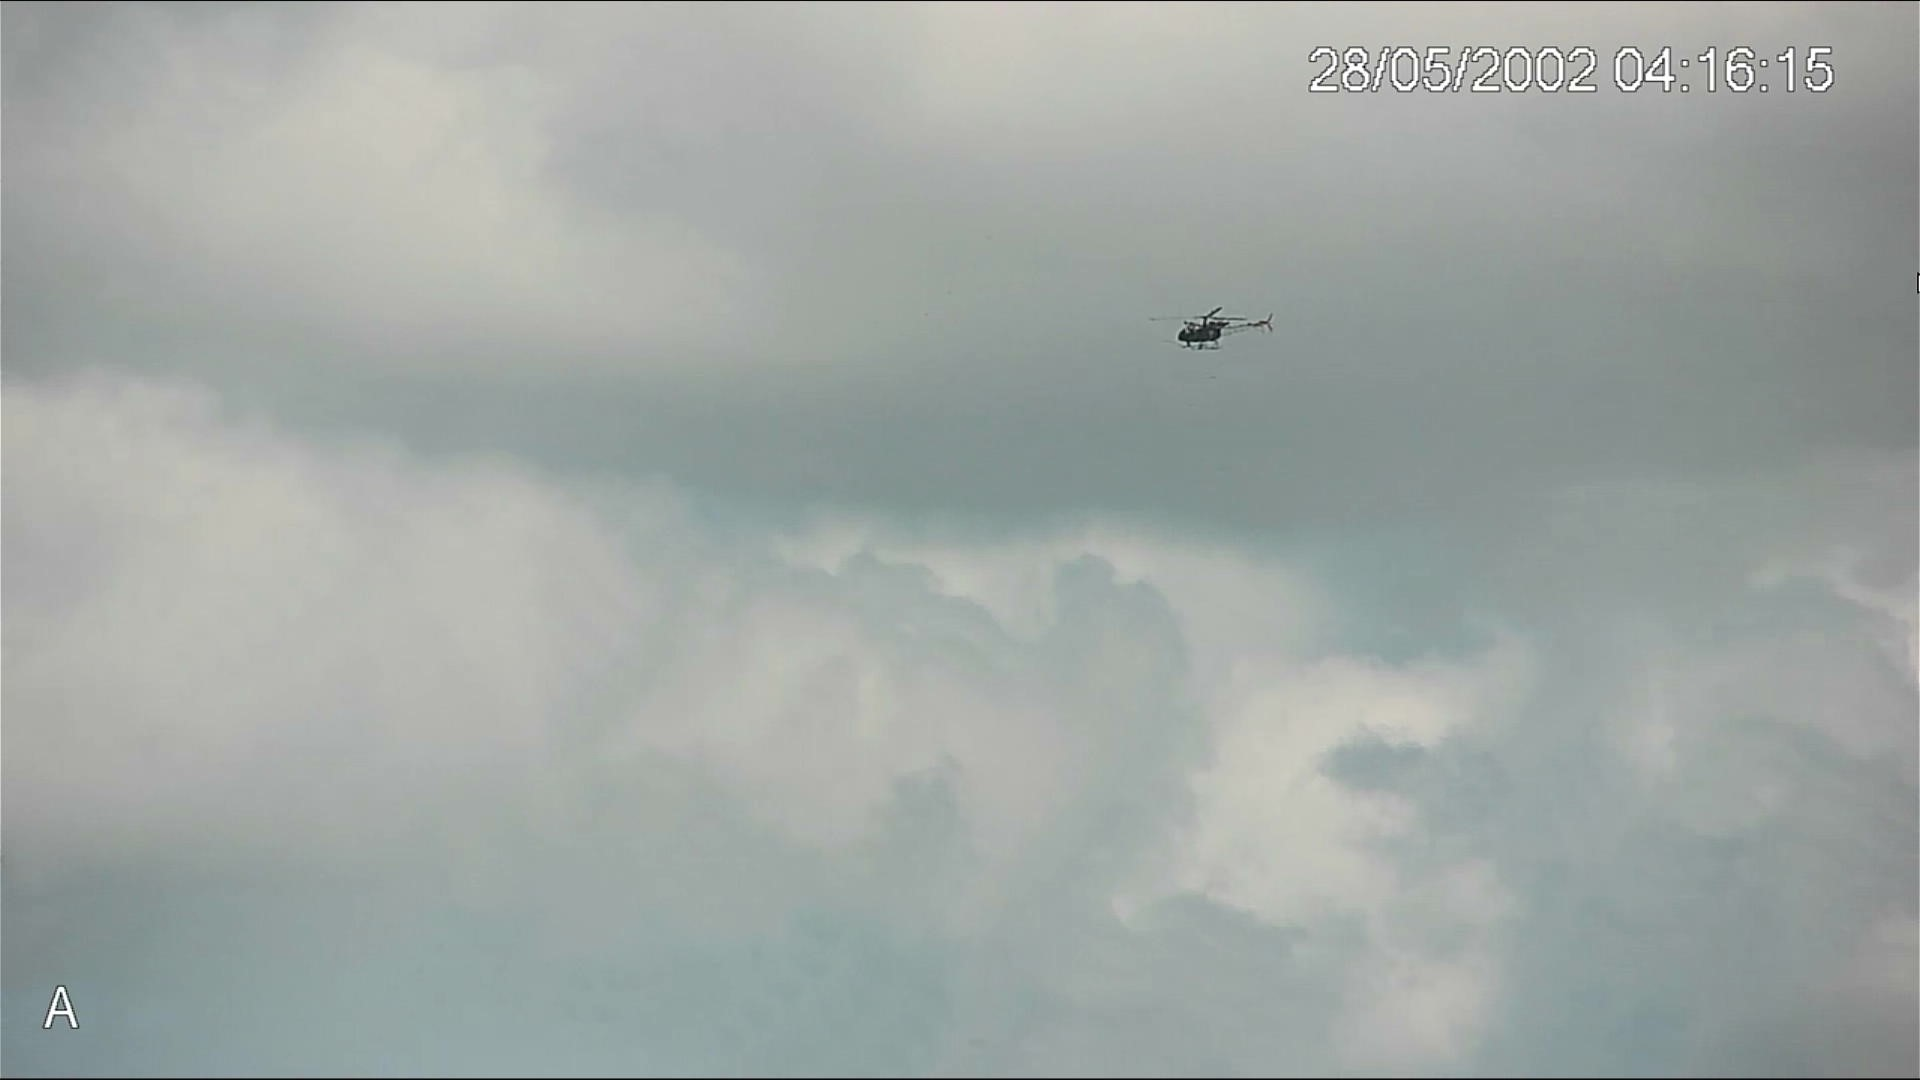SU_30: (1168, 313, 1279, 349)
